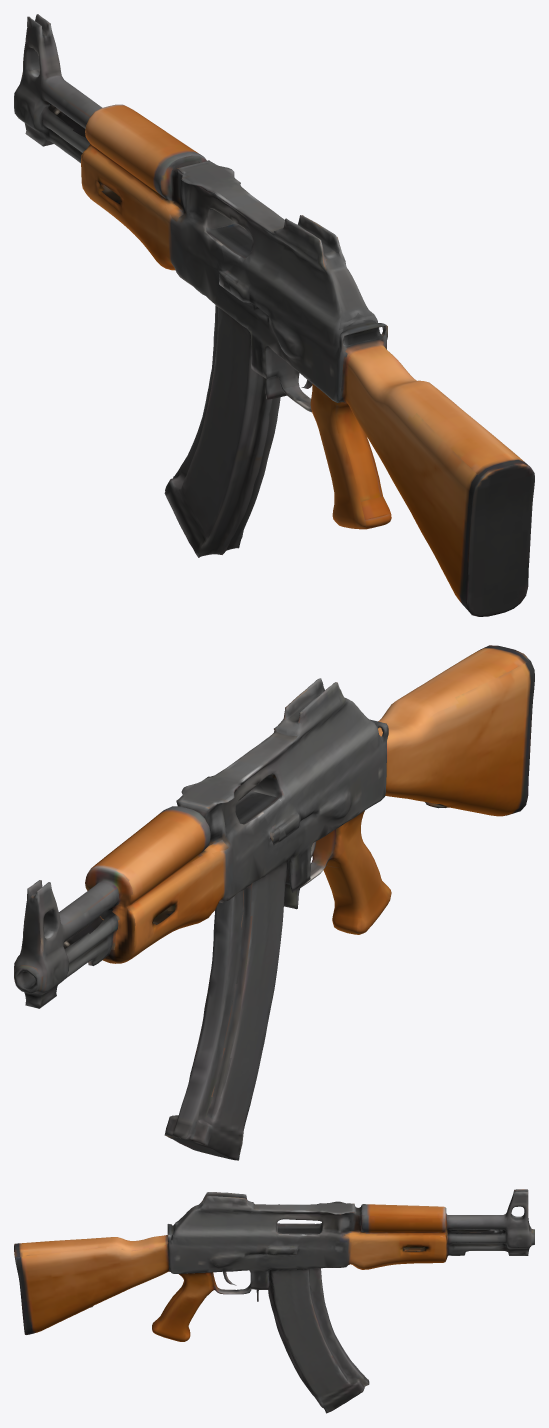
The model's file is item-gunak.glb.
The picture shows the model from 3 angles, top to bottom: view 1: azimuth 30°, elevation 25°; view 2: azimuth 150°, elevation 25°; view 3: azimuth 270°, elevation 25°; orthographic projection. The views are drawn at different scales.
Bounding box in the file's own units: 0.1403 × 0.8763 × 1.9.
1 material, 1 textured.
